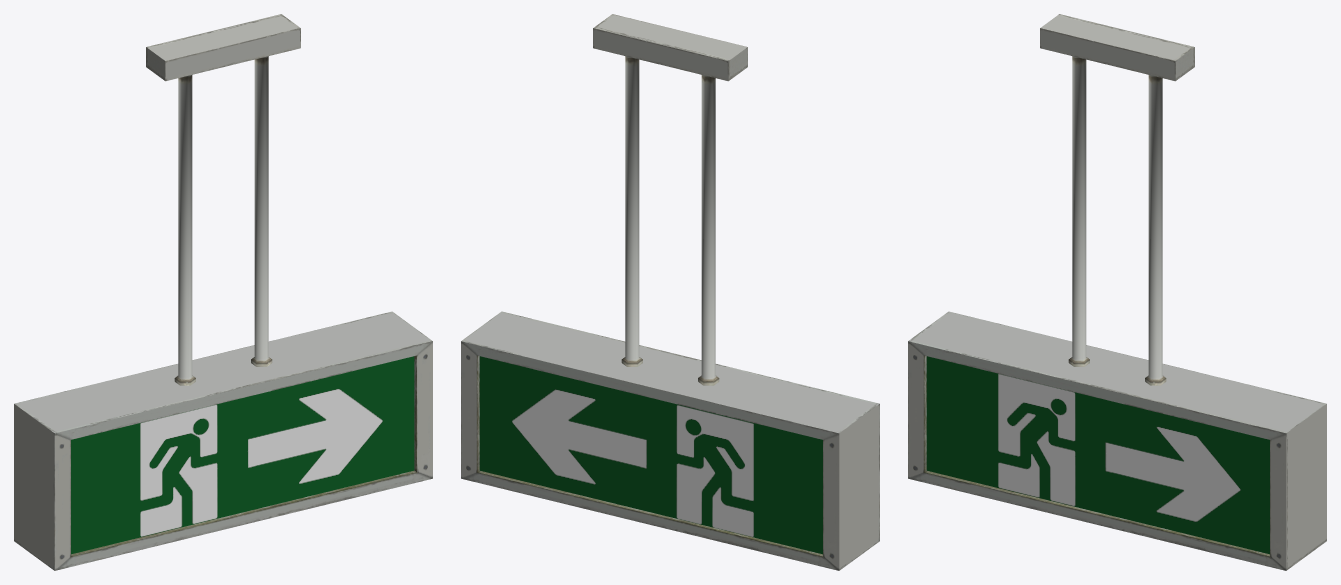
File: EmergencySign.fbx
3 views of the same model, side by side, from view 1: azimuth 30°, elevation 25°; view 2: azimuth 150°, elevation 25°; view 3: azimuth 330°, elevation 25° (orthographic).
Parts seen in each view (by area): view 1: sign_exit; view 2: sign_exit; view 3: sign_exit.
Part boxes in pixels (x1=…): sign_exit: x1=14, y1=14, x2=432, y2=570; sign_exit: x1=461, y1=14, x2=879, y2=570; sign_exit: x1=908, y1=14, x2=1326, y2=570.
Bounding box in the file's own units: 59.64 × 71.18 × 11.11.
